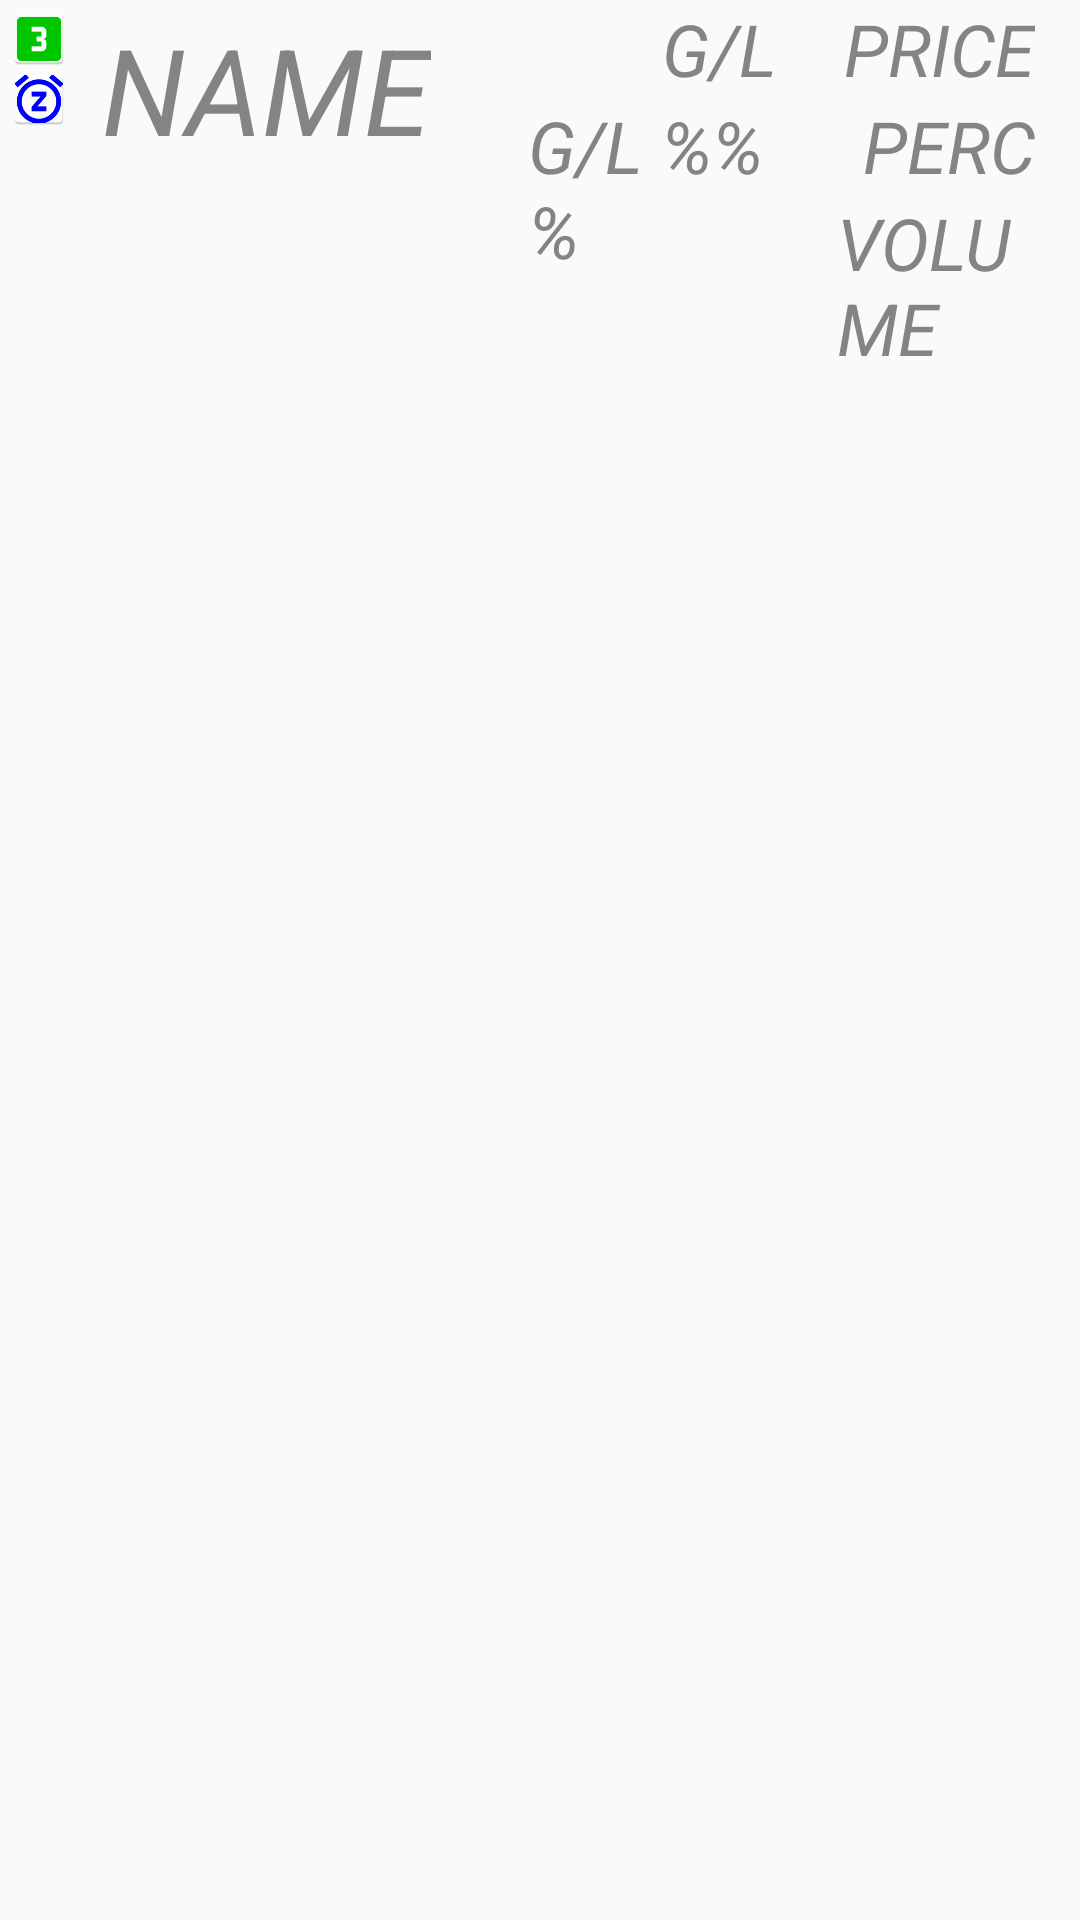

Named icons in this screenshot (1080 × 1920) and their centers, (x,y):
snooze: (39,99)
